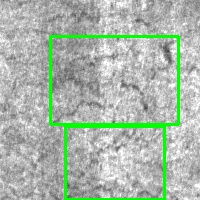crazing: (50, 36, 178, 124), (65, 126, 164, 199)
